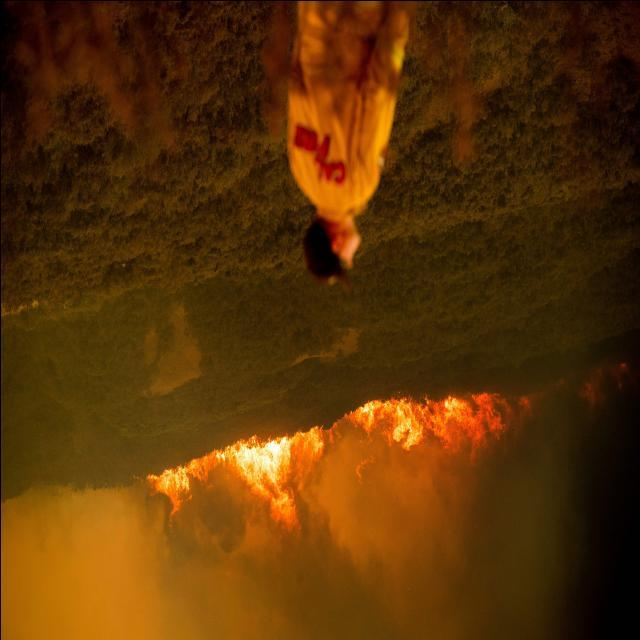Fire: (142, 370, 508, 564)
